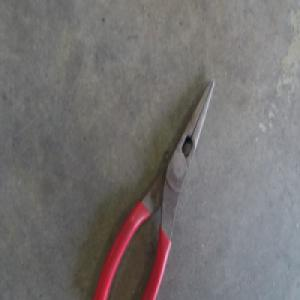Pliers: (91, 80, 215, 299)
